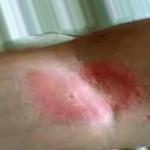Tick: (30, 60, 138, 120)
